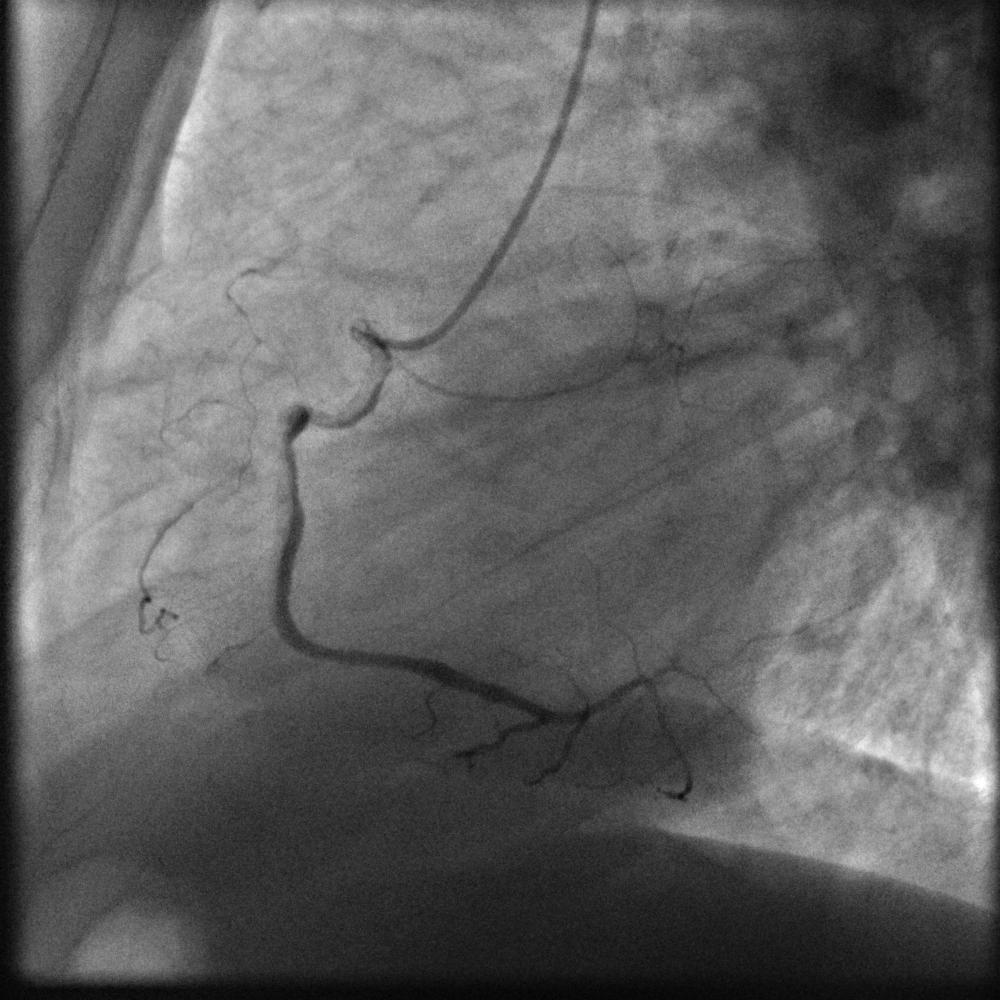Stenosis: (303, 399, 331, 432)
